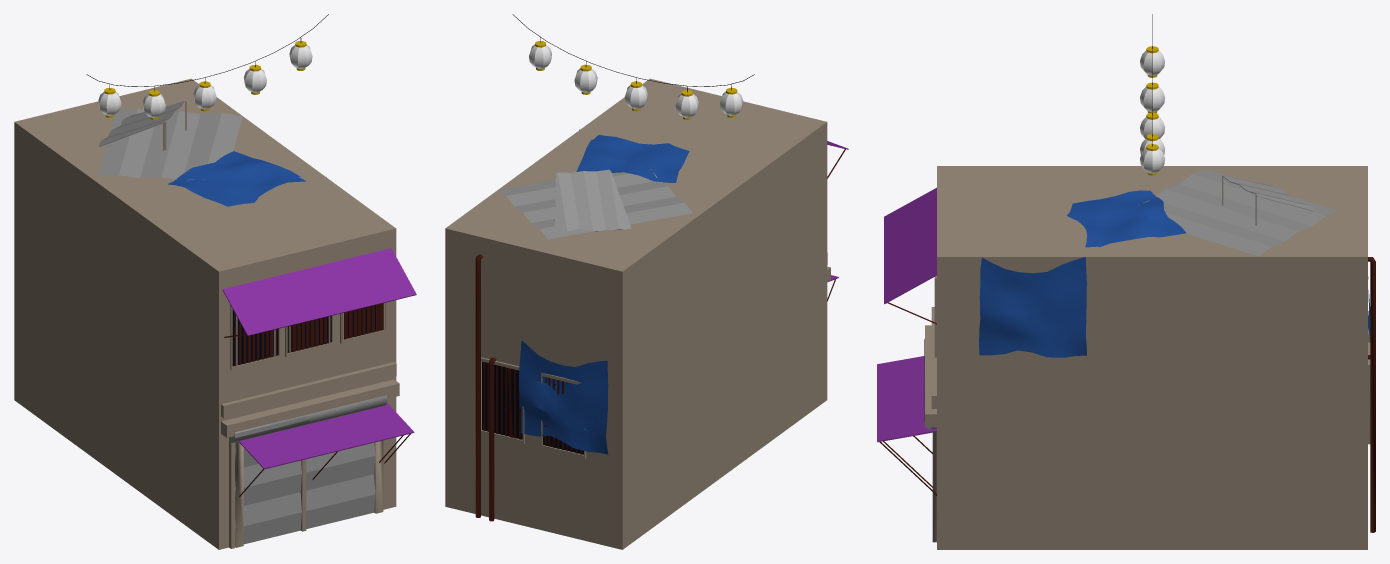
Rendered from Shops.fbx.
3 renders of one model, left to right at view 1: azimuth 30°, elevation 25°; view 2: azimuth 150°, elevation 25°; view 3: azimuth 270°, elevation 25°, orthographic. The views are drawn at different scales.
Parts seen in each view (by area): view 1: Building 4, Building 2, Building 1, Building 3, Lantern, Lantern.003, Lantern.001, Lantern.004, Lantern.002; view 2: Building 1, Building 4, Building 2, Building 3, Lantern.004, Lantern, Lantern.002, Lantern.003, Lantern.001; view 3: Building 1, Building 4, Building 3, Lantern.003.
Part boxes in pixels (x1=…): Building 4: x1=14, y1=104, x2=416, y2=549; Building 2: x1=14, y1=219, x2=406, y2=549; Building 1: x1=29, y1=78, x2=396, y2=547; Building 3: x1=221, y1=379, x2=407, y2=495; Lantern: x1=193, y1=78, x2=216, y2=111; Lantern.003: x1=289, y1=37, x2=312, y2=70; Lantern.001: x1=98, y1=84, x2=121, y2=117; Lantern.004: x1=243, y1=61, x2=266, y2=94; Lantern.002: x1=142, y1=86, x2=165, y2=119; Building 1: x1=445, y1=78, x2=827, y2=546; Building 4: x1=445, y1=135, x2=848, y2=549; Building 2: x1=448, y1=219, x2=830, y2=549; Building 3: x1=481, y1=266, x2=838, y2=453; Lantern.004: x1=574, y1=61, x2=597, y2=94; Lantern: x1=625, y1=78, x2=647, y2=111; Lantern.002: x1=675, y1=86, x2=698, y2=119; Lantern.003: x1=529, y1=37, x2=551, y2=70; Lantern.001: x1=720, y1=84, x2=743, y2=117; Building 1: x1=924, y1=166, x2=1375, y2=549; Building 4: x1=877, y1=166, x2=1370, y2=549; Building 3: x1=877, y1=325, x2=1370, y2=517; Lantern.003: x1=1140, y1=141, x2=1164, y2=175.
Size of the model in its own units: 548 by 883 by 926.
